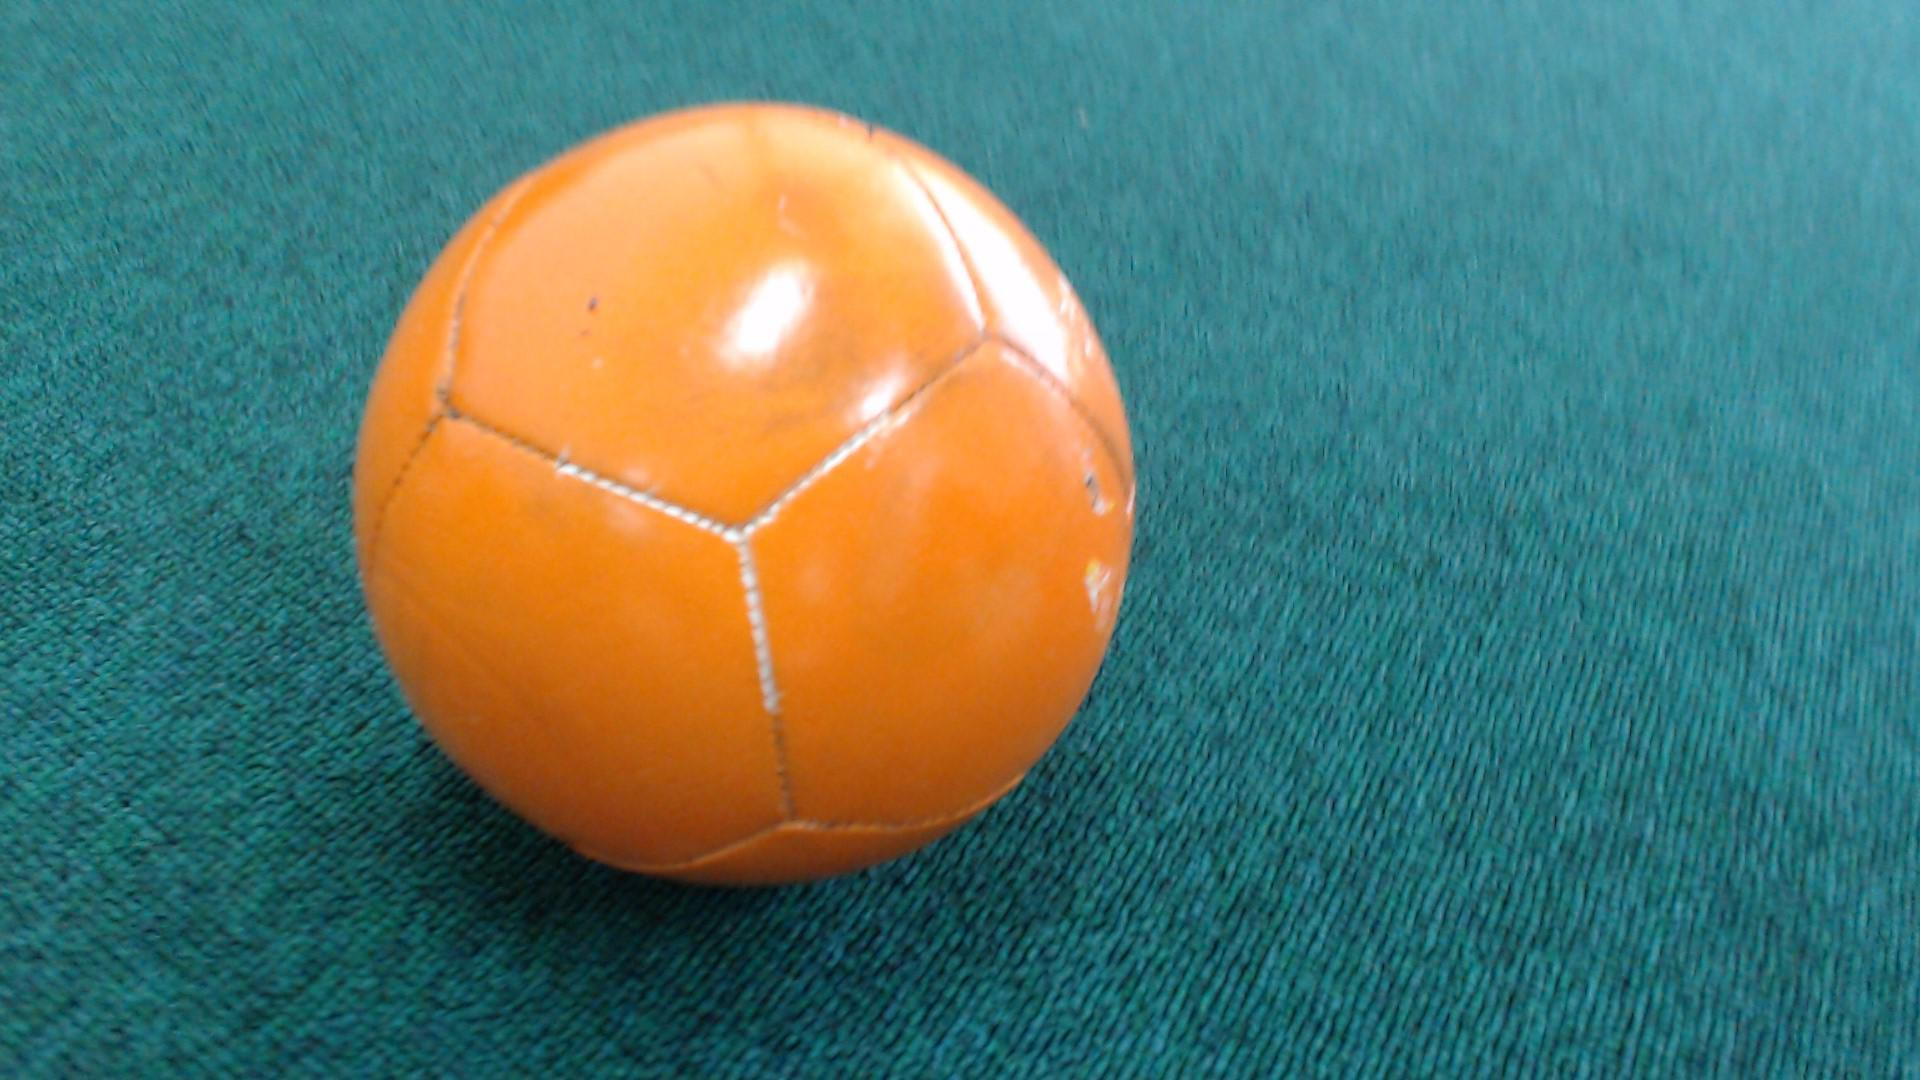bola: (331, 69, 1192, 928)
